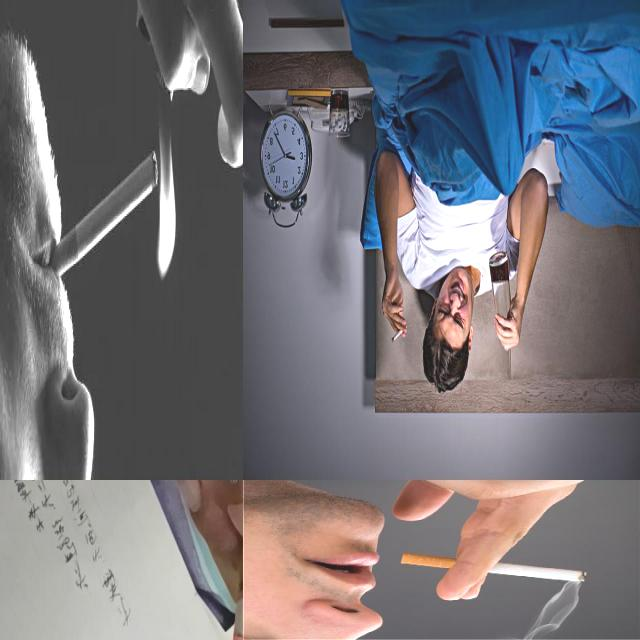cigarette: (44, 148, 158, 286), (400, 552, 588, 582), (231, 500, 242, 640), (390, 324, 408, 344)
